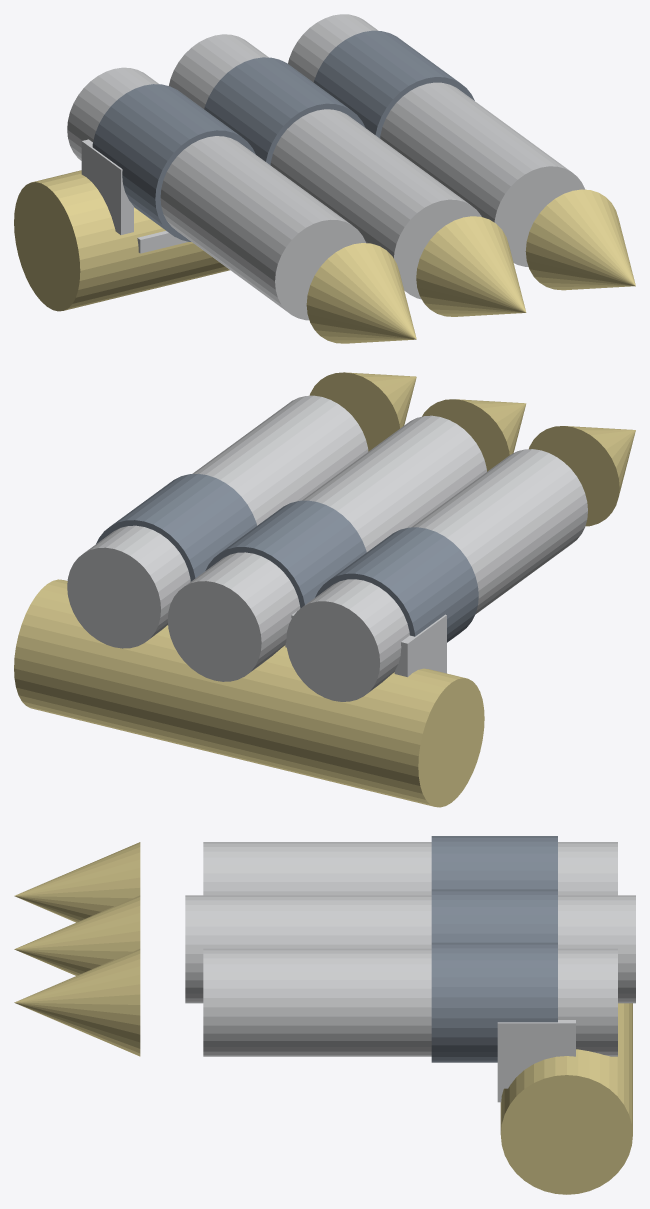
File: sip-2.glb
3 renders of one model, top to bottom at view 1: azimuth 30°, elevation 25°; view 2: azimuth 150°, elevation 25°; view 3: azimuth 270°, elevation 25°, orthographic.
Parts seen in each view (by area): view 1: part000, part007, part014, part021, part001, part016, part009, part002, part008, part015, part003, part004; view 2: part021, part000, part007, part014, part001, part008, part015, part002, part016, part009, part003; view 3: part014, part007, part021, part000, part015, part016, part008, part001, part002, part009, part019.
Boxes of the visible parts, x1,y1,x2,y2 form: part000: [67, 67, 365, 320]; part007: [169, 34, 481, 299]; part014: [288, 14, 585, 266]; part021: [14, 170, 229, 311]; part001: [92, 84, 255, 241]; part016: [525, 189, 635, 290]; part009: [416, 216, 526, 316]; part002: [306, 243, 416, 343]; part008: [204, 57, 365, 165]; part015: [313, 30, 474, 138]; part003: [81, 139, 133, 234]; part004: [137, 231, 188, 253]; part021: [14, 579, 484, 807]; part000: [286, 449, 587, 701]; part007: [167, 415, 486, 681]; part014: [67, 395, 368, 648]; part001: [315, 527, 478, 642]; part008: [205, 500, 366, 608]; part015: [96, 473, 256, 581]; part002: [529, 426, 635, 526]; part016: [309, 372, 416, 451]; part009: [422, 399, 526, 471]; part003: [394, 614, 446, 677]; part014: [203, 948, 617, 1056]; part007: [185, 895, 635, 1003]; part021: [500, 1003, 632, 1194]; part000: [203, 842, 617, 895]; part015: [431, 942, 557, 1062]; part016: [14, 949, 140, 1056]; part008: [431, 889, 557, 942]; part001: [431, 836, 557, 889]; part002: [14, 842, 140, 922]; part009: [14, 895, 140, 975]; part019: [497, 1020, 575, 1088].
Bounding box in the file's own units: 1.55 × 0.74 × 2.07.
